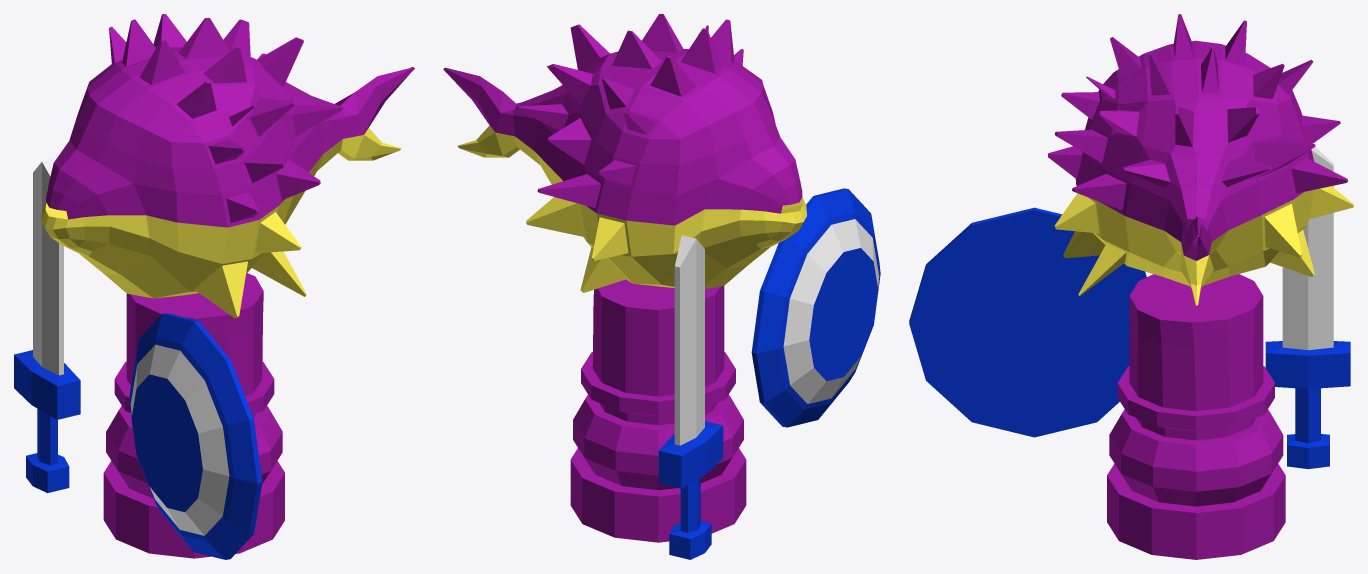
The model's file is SoldierBaiacu.fbx.
3 views of the same model, side by side, from view 1: azimuth 30°, elevation 25°; view 2: azimuth 150°, elevation 25°; view 3: azimuth 270°, elevation 25° (orthographic). The views are drawn at different scales.
Visible parts, largest first — view 1: Cube.001; view 2: Cube.001; view 3: Cube.001.
Part boxes in pixels (x1,y1,x2,y2): Cube.001: (14, 14, 414, 559); Cube.001: (443, 14, 880, 559); Cube.001: (909, 14, 1353, 559).
Bounding box in the file's own units: 72.34 × 92.33 × 76.14.
Materials: 2 (1 with a texture image).
